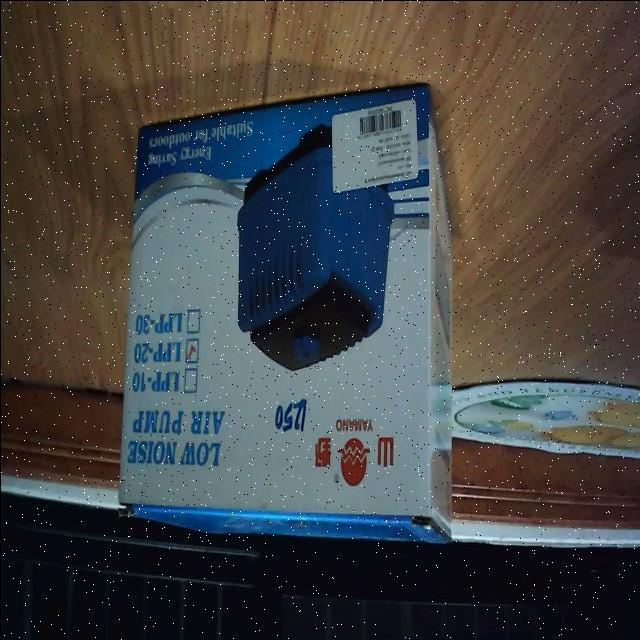YAMANO_LPP_20: (120, 68, 460, 572)
